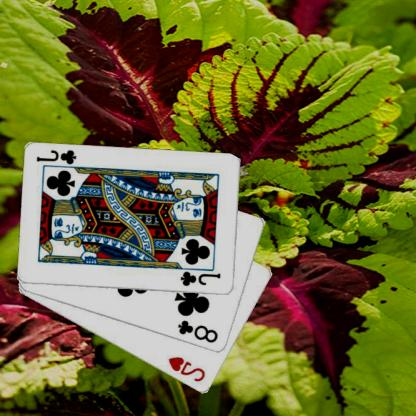2H: (168, 354, 209, 384)
8C: (177, 317, 221, 344)
JC: (180, 269, 224, 288), (36, 148, 80, 166)
